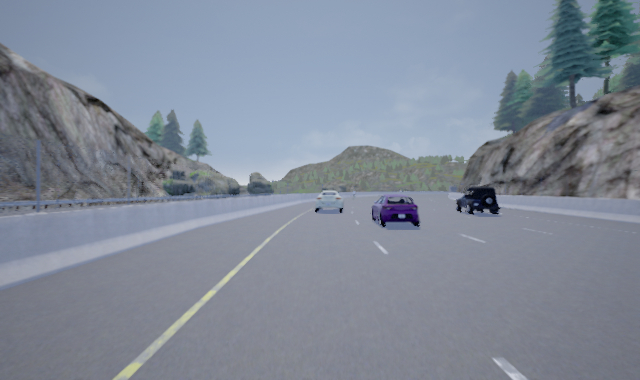vehicle: (371, 193, 423, 226), (457, 186, 503, 215), (315, 190, 344, 213)
